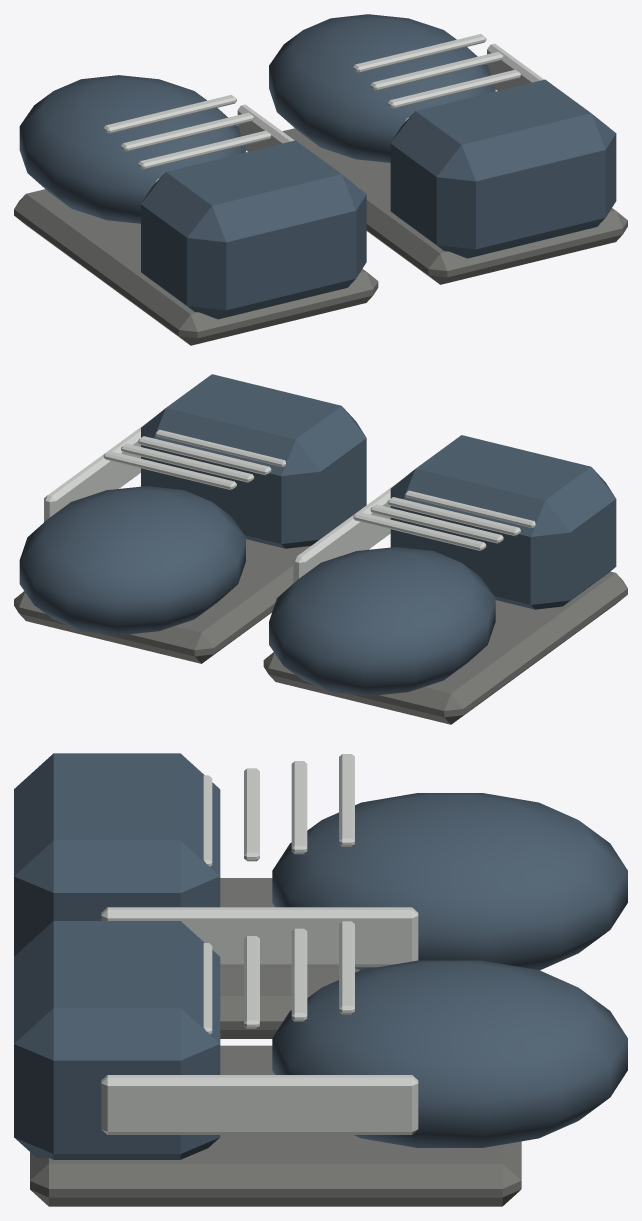
File: item_sneakers.glb
3 renders of one model, top to bottom at view 1: azimuth 30°, elevation 25°; view 2: azimuth 150°, elevation 25°; view 3: azimuth 270°, elevation 25°, orthographic. The views are drawn at different scales.
Parts seen in each view (by area): view 1: item_sneakers; view 2: item_sneakers; view 3: item_sneakers.
Part boxes in pixels (x1,y1,x2,y2): item_sneakers: [14, 14, 627, 345]; item_sneakers: [14, 374, 627, 724]; item_sneakers: [14, 753, 627, 1206].
Bounding box in the file's own units: 0.453 × 0.128 × 0.3871.
